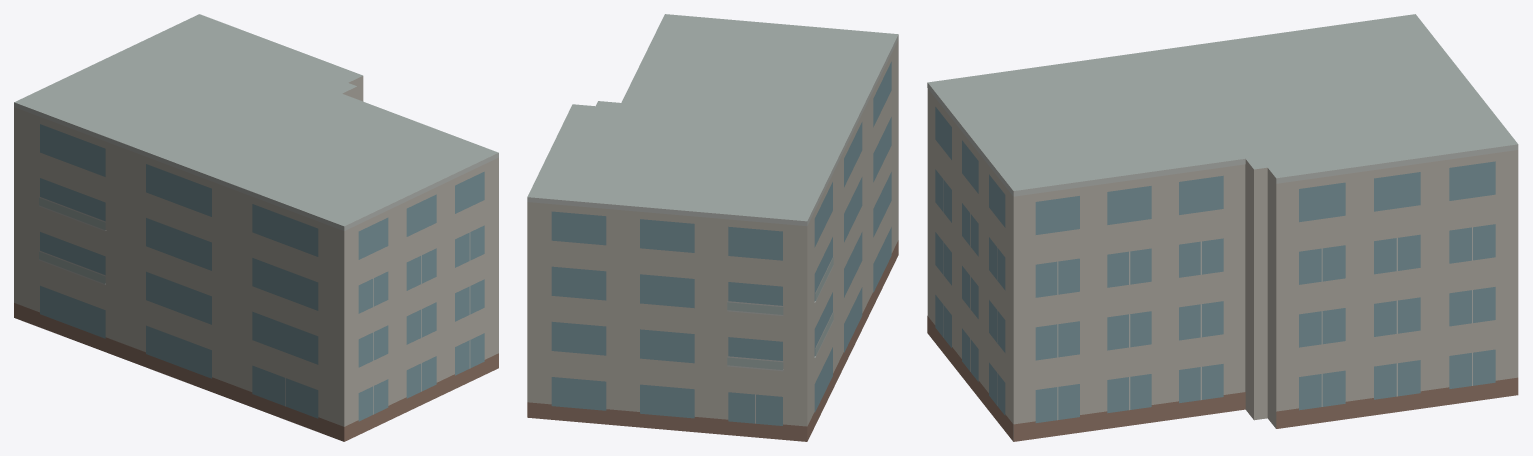
The model's file is survey-upis-32618720.glb.
3 views of the same model, side by side, from view 1: azimuth 30°, elevation 25°; view 2: azimuth 150°, elevation 25°; view 3: azimuth 270°, elevation 25° (orthographic). The views are drawn at different scales.
Visible parts, largest first — view 1: survey-upis-32618720.tmp; view 2: survey-upis-32618720.tmp; view 3: survey-upis-32618720.tmp.
Boxes of the visible parts, x1,y1,x2,y2 form: survey-upis-32618720.tmp: (14, 14, 498, 441); survey-upis-32618720.tmp: (527, 14, 898, 441); survey-upis-32618720.tmp: (927, 14, 1518, 441).
Bounding box in the file's own units: 16.68 × 11 × 23.5.
